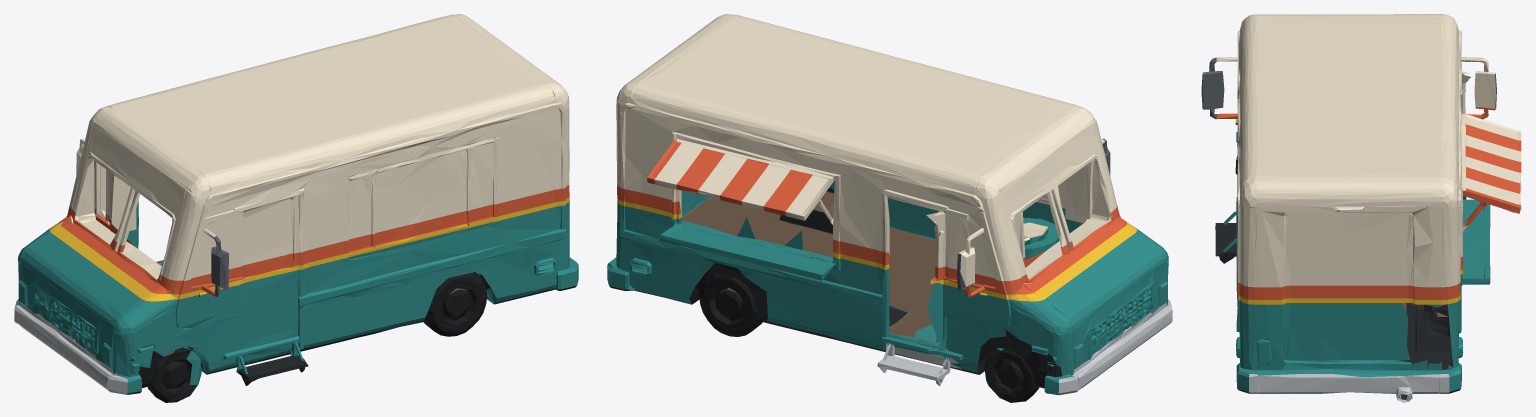
File: LittleFlamePatina.obj
3 views of the same model, side by side, from view 1: azimuth 30°, elevation 25°; view 2: azimuth 150°, elevation 25°; view 3: azimuth 270°, elevation 25° (orthographic).
Parts seen in each view (by area): view 1: LF_Cream, LF_Teal, LF_Coral, LF_Tyre, LF_Pin, LF_Inner, LF_Chrome, LF_Under, LF_Trim; view 2: LF_Cream, LF_Teal, LF_Coral, LF_Floor, LF_Tyre, LF_Chrome, LF_InnerLow, LF_Under, LF_Inner, LF_Pin; view 3: LF_Cream, LF_Teal, LF_Coral, LF_Chrome, LF_Under, LF_Pin, LF_Trim, LF_Tyre.
Boxes of the visible parts, x1,y1,x2,y2 form: LF_Cream: (69,14,569,280); LF_Teal: (16,199,578,394); LF_Coral: (59,185,569,295); LF_Tyre: (138,272,490,402); LF_Pin: (50,195,569,301); LF_Inner: (60,158,161,279); LF_Chrome: (14,300,127,394); LF_Under: (128,272,576,402); LF_Trim: (211,235,228,297); LF_Cream: (616,14,1116,287); LF_Teal: (607,203,1168,395); LF_Coral: (617,139,1126,297); LF_Floor: (681,198,999,348); LF_Tyre: (695,272,1047,402); LF_Chrome: (877,299,1172,395); LF_InnerLow: (680,181,1082,350); LF_Under: (609,188,1062,402); LF_Inner: (679,123,1111,283); LF_Pin: (617,198,1137,301); LF_Cream: (1216,14,1521,287); LF_Teal: (1222,123,1490,391); LF_Coral: (1215,107,1521,300); LF_Chrome: (1249,374,1449,402); LF_Under: (1215,223,1460,399); LF_Pin: (1215,118,1482,304); LF_Trim: (1201,57,1496,118); LF_Tyre: (1235,160,1450,336).
Size of the model in its own units: 8.34 by 3.8 by 4.83.
